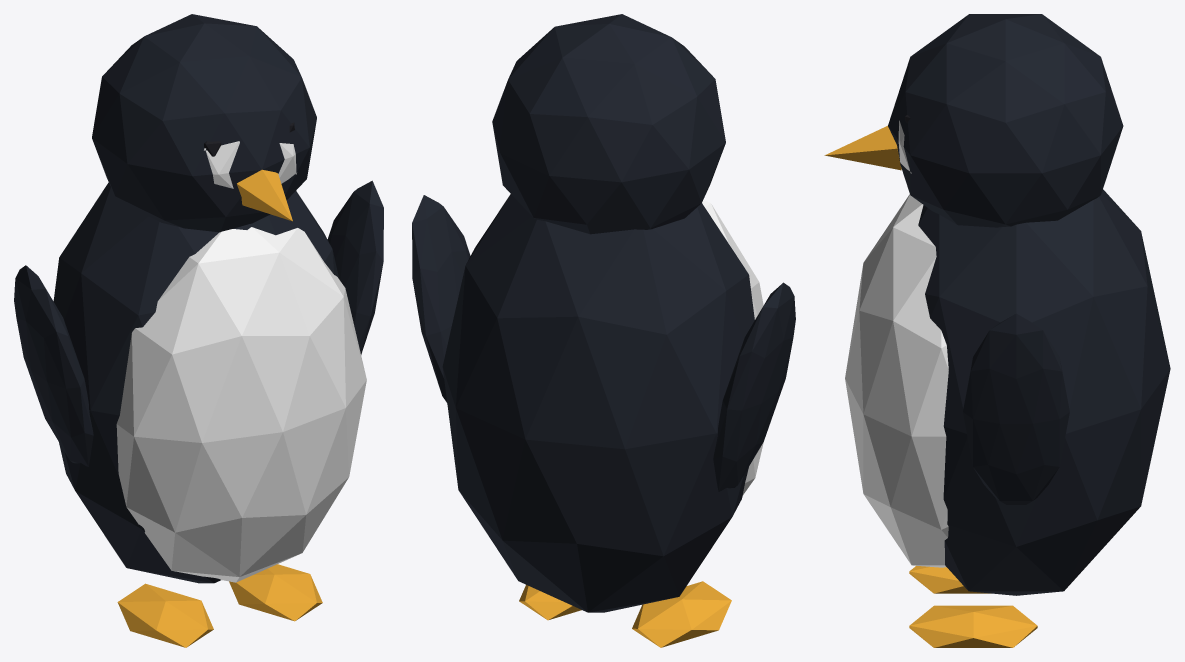
File: Penguin.fbx
3 views of the same model, side by side, from view 1: azimuth 30°, elevation 25°; view 2: azimuth 150°, elevation 25°; view 3: azimuth 270°, elevation 25° (orthographic). The views are drawn at different scales.
Visible parts, largest first — view 1: Body, Belly, Orange; view 2: Body, Orange, Belly; view 3: Body, Belly, Orange.
Part boxes in pixels (box(x1,y1,x2,y2)): Body: box(14, 14, 383, 583); Belly: box(116, 141, 366, 582); Orange: box(117, 169, 322, 647); Body: box(412, 14, 795, 612); Orange: box(519, 581, 731, 647); Belly: box(702, 200, 763, 495); Body: box(888, 14, 1170, 595); Belly: box(845, 120, 948, 567); Orange: box(824, 125, 1037, 647).
Bounding box in the file's own units: 1.95 × 3.07 × 1.62.
